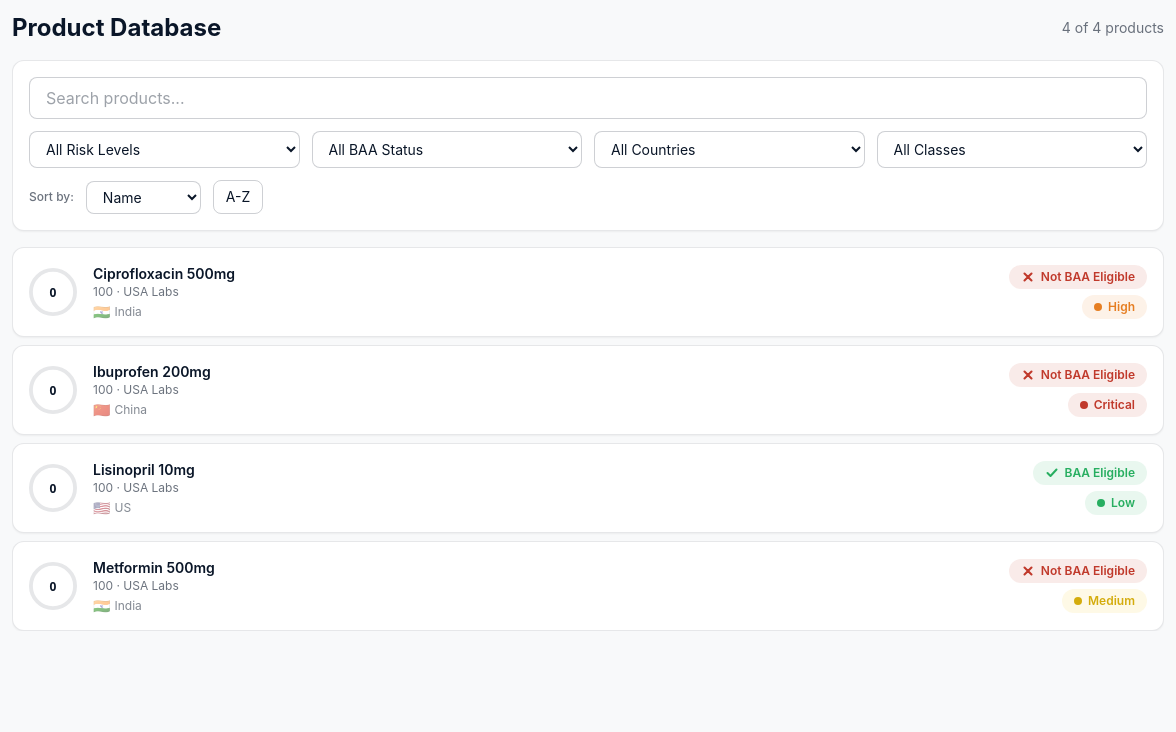
Test case: ProductList › filters reduce displayed count › filters by search text
Expected: the number of buttons with test id "product-card" is 4, [12,247,1164,337]; [12,345,1164,435]; [12,443,1164,533]; [12,541,1164,631]
Step 1. Type "lisinopril" into the field with test id "search-input" → x=588, y=98, box [29,77,1147,119]
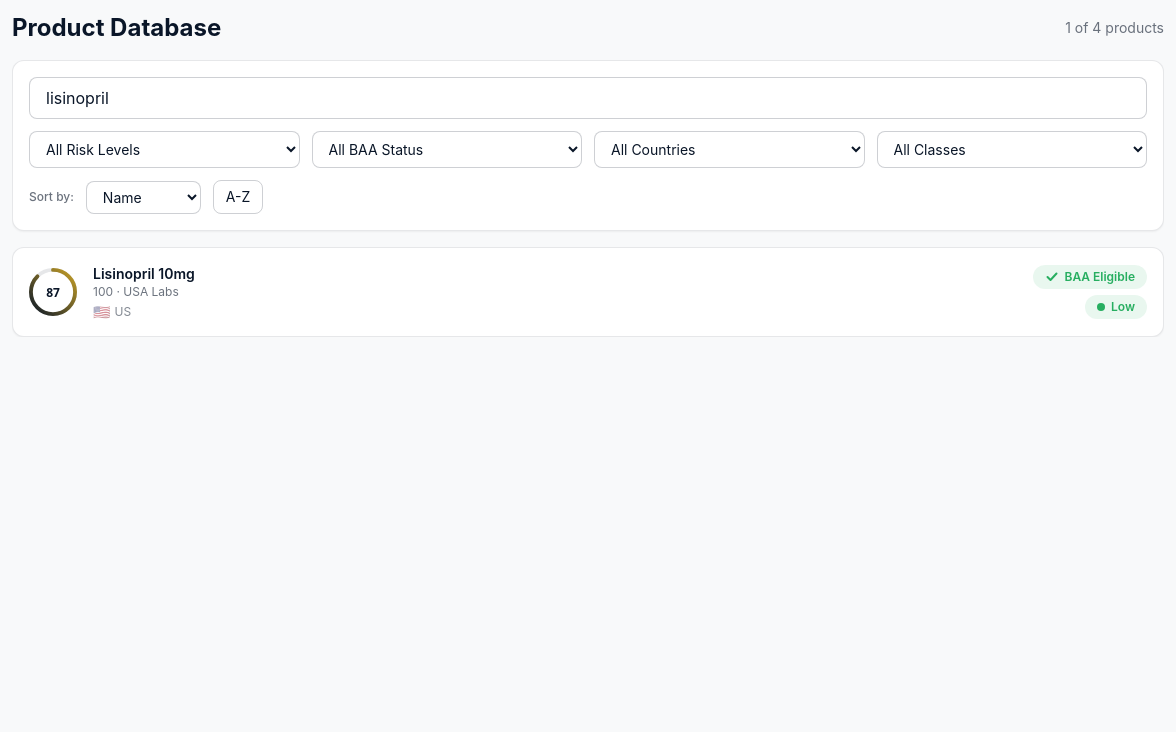
Expected: the number of buttons with test id "product-card" is 1, [12,247,1164,337]
Expected: the text with test id "product-count" shows "1 of 4", [1065,18,1164,38]
